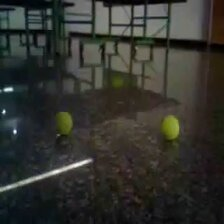tennis: (159, 115, 180, 142), (53, 111, 74, 137)
